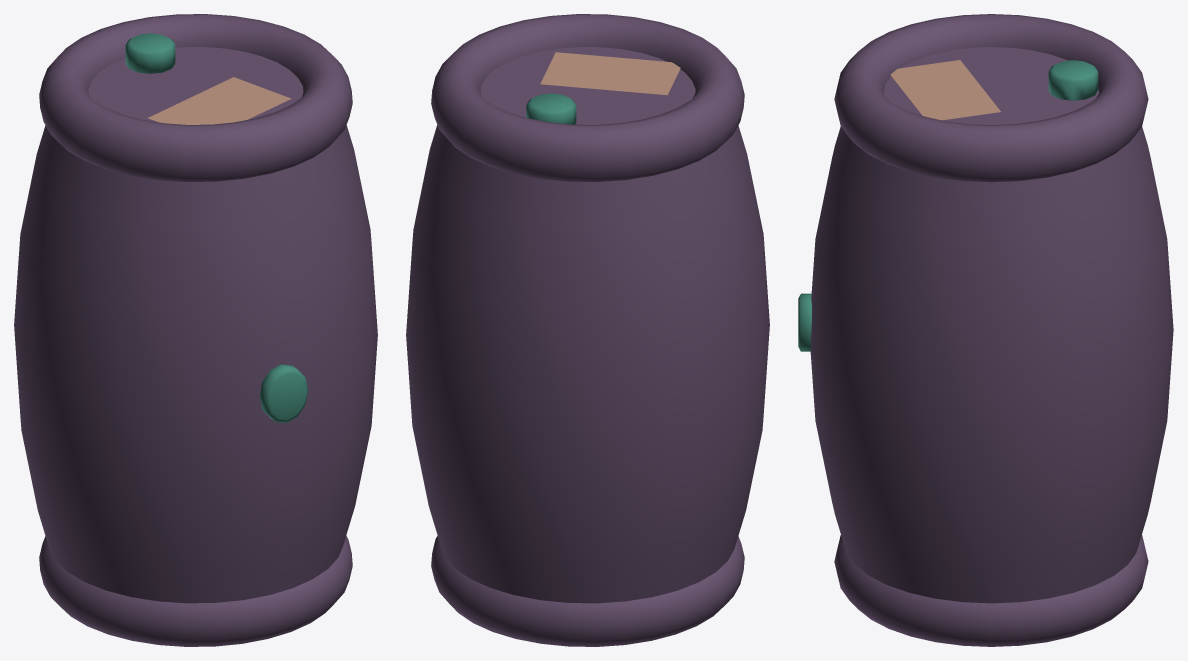
Rendered from GB_084_barrel.glb.
3 renders of one model, left to right at view 1: azimuth 30°, elevation 25°; view 2: azimuth 150°, elevation 25°; view 3: azimuth 270°, elevation 25°, orthographic.
Visible parts, largest first — view 1: Barrel; view 2: Barrel; view 3: Barrel.
Boxes of the visible parts, x1,y1,x2,y2 form: Barrel: [14, 14, 377, 646]; Barrel: [406, 14, 769, 646]; Barrel: [798, 14, 1173, 646].
Bounding box in the file's own units: 0.8394 × 1.32 × 0.864.
